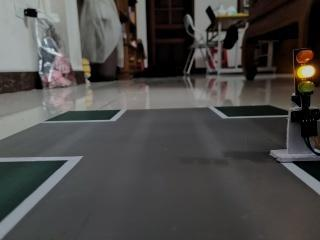yellow: (282, 40, 320, 108)
